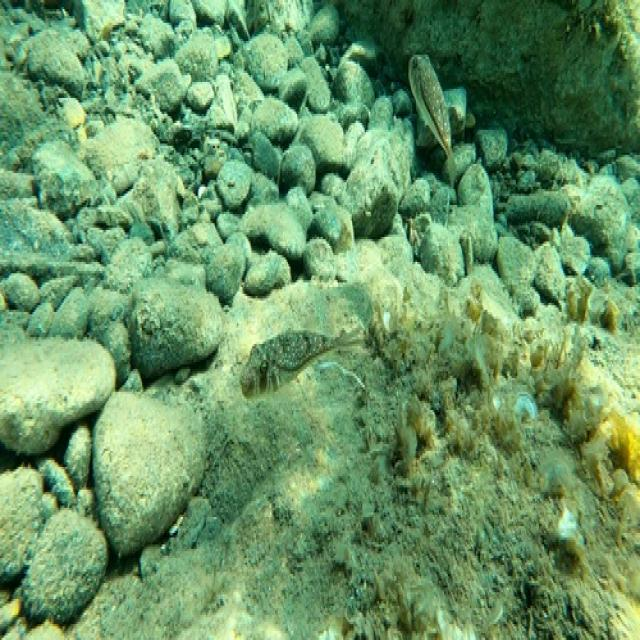Balik: (240, 331, 363, 398), (409, 55, 451, 159)
